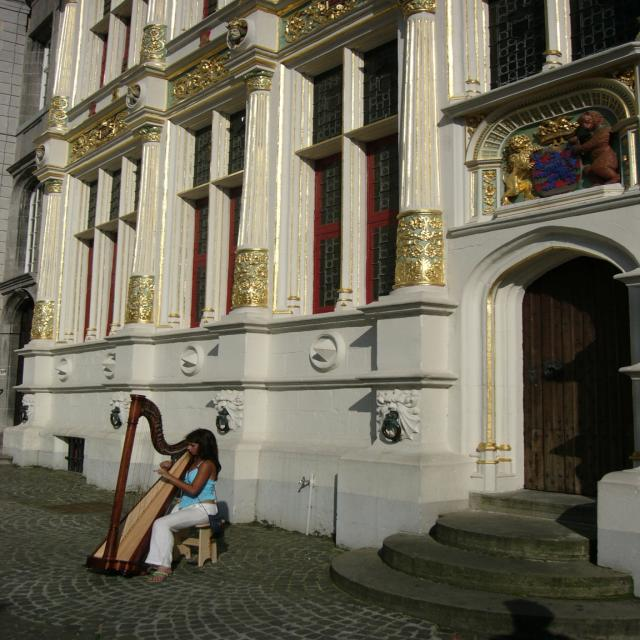harp: (89, 392, 201, 580)
